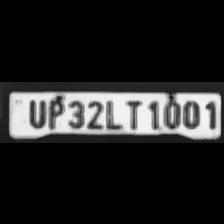0: (180, 97, 202, 128), (160, 97, 180, 128)
1: (200, 97, 220, 129), (144, 97, 160, 129)
2: (84, 96, 104, 130)
3: (65, 96, 85, 128)
L: (103, 96, 121, 130)
P: (46, 96, 64, 128)
T: (122, 96, 144, 130)
U: (24, 96, 46, 128)
